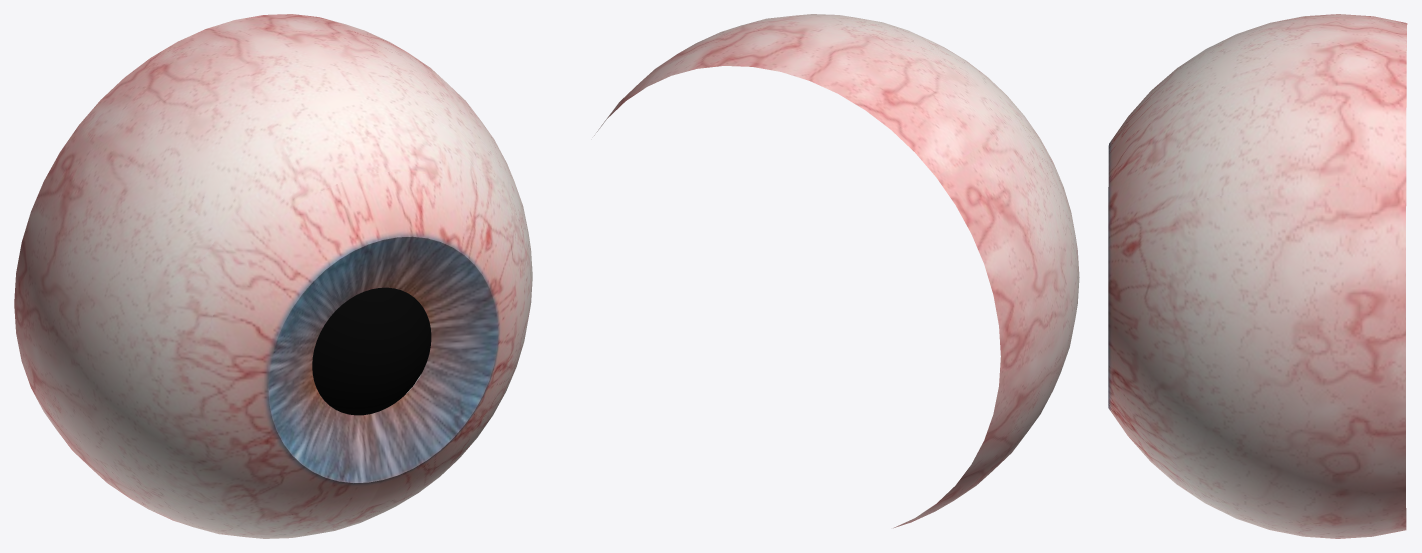
The model's file is eyeScene2V3.glb.
3 renders of one model, left to right at view 1: azimuth 30°, elevation 25°; view 2: azimuth 150°, elevation 25°; view 3: azimuth 270°, elevation 25°, orthographic.
Visible parts, largest first — view 1: Subdivision Surface; view 2: Subdivision Surface; view 3: Subdivision Surface.
Boxes of the visible parts, left/top/right/bottom form: Subdivision Surface: left=14, top=14, right=532, bottom=538; Subdivision Surface: left=594, top=14, right=1079, bottom=528; Subdivision Surface: left=1108, top=14, right=1407, bottom=538.
Bounding box in the file's own units: 23.59 × 23.59 × 13.45.
1 material, 1 textured.
